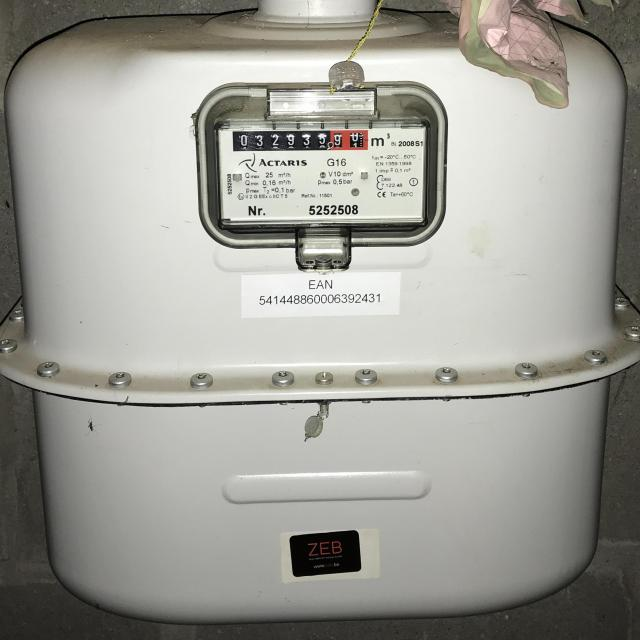gaz_meter: (212, 122, 426, 225)
indication: (233, 130, 371, 152)
